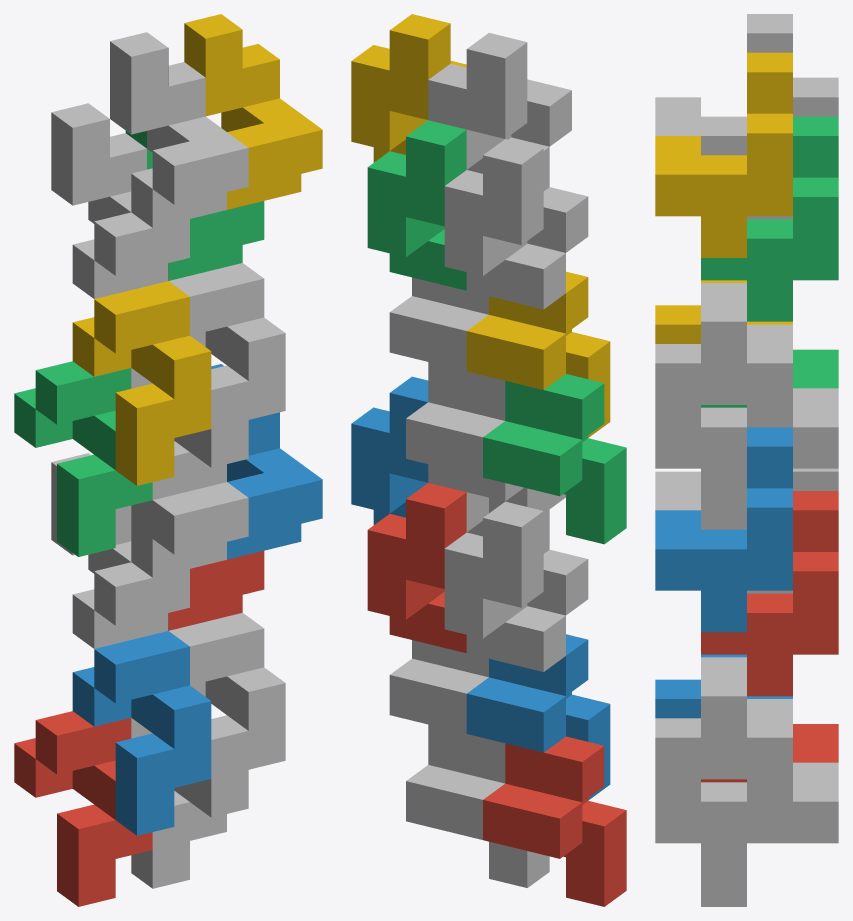
The model's file is tiling.obj.
The picture shows the model from 3 angles, left to right: view 1: azimuth 30°, elevation 25°; view 2: azimuth 150°, elevation 25°; view 3: azimuth 270°, elevation 25°; orthographic projection. The views are drawn at different scales.
Parts seen in each view (by area): view 1: copy_1_domain_2, copy_1_domain_4, copy_2_domain_4, copy_2_domain_3, copy_1_domain_1, copy_1_domain_3, copy_1_domain_6, copy_1_domain_8, copy_2_domain_8, copy_2_domain_1, copy_2_domain_6, copy_2_domain_2 (+4 smaller); view 2: copy_2_domain_3, copy_2_domain_1, copy_1_domain_1, copy_1_domain_3, copy_2_domain_4, copy_2_domain_5, copy_2_domain_7, copy_1_domain_2, copy_1_domain_4, copy_1_domain_5, copy_2_domain_8, copy_1_domain_7 (+4 smaller); view 3: copy_2_domain_6, copy_2_domain_8, copy_1_domain_6, copy_1_domain_8, copy_2_domain_5, copy_2_domain_7, copy_1_domain_5, copy_1_domain_7, copy_2_domain_4, copy_2_domain_2, copy_1_domain_2, copy_1_domain_4 (+4 smaller).
Boxes of the visible parts, x1=… form: copy_1_domain_2: x1=72, y1=631, x2=211, y2=835; copy_1_domain_4: x1=72, y1=281, x2=211, y2=485; copy_2_domain_4: x1=110, y1=32, x2=248, y2=227; copy_2_domain_3: x1=51, y1=103, x2=189, y2=298; copy_1_domain_1: x1=14, y1=711, x2=152, y2=906; copy_1_domain_3: x1=14, y1=361, x2=152, y2=556; copy_1_domain_6: x1=169, y1=612, x2=285, y2=817; copy_1_domain_8: x1=169, y1=263, x2=285, y2=467; copy_2_domain_8: x1=184, y1=14, x2=322, y2=209; copy_2_domain_1: x1=51, y1=453, x2=189, y2=648; copy_2_domain_6: x1=211, y1=364, x2=322, y2=559; copy_2_domain_2: x1=131, y1=482, x2=248, y2=577; copy_2_domain_3: x1=444, y1=139, x2=588, y2=309; copy_2_domain_1: x1=444, y1=501, x2=588, y2=671; copy_1_domain_1: x1=483, y1=736, x2=626, y2=906; copy_1_domain_3: x1=483, y1=374, x2=626, y2=544; copy_2_domain_4: x1=428, y1=33, x2=571, y2=190; copy_2_domain_5: x1=367, y1=483, x2=466, y2=653; copy_2_domain_7: x1=367, y1=120, x2=466, y2=290; copy_1_domain_2: x1=466, y1=634, x2=610, y2=800; copy_1_domain_4: x1=466, y1=271, x2=610, y2=437; copy_1_domain_5: x1=406, y1=724, x2=549, y2=887; copy_2_domain_8: x1=351, y1=14, x2=466, y2=162; copy_1_domain_7: x1=406, y1=362, x2=549, y2=513; copy_2_domain_6: x1=655, y1=427, x2=792, y2=632; copy_2_domain_8: x1=655, y1=52, x2=792, y2=257; copy_1_domain_6: x1=655, y1=657, x2=792, y2=843; copy_1_domain_8: x1=655, y1=283, x2=792, y2=468; copy_2_domain_5: x1=701, y1=491, x2=838, y2=696; copy_2_domain_7: x1=701, y1=116, x2=838, y2=321; copy_1_domain_5: x1=701, y1=762, x2=838, y2=906; copy_1_domain_7: x1=701, y1=388, x2=838, y2=510; copy_2_domain_4: x1=655, y1=14, x2=792, y2=155; copy_2_domain_2: x1=655, y1=471, x2=746, y2=529; copy_1_domain_2: x1=655, y1=654, x2=792, y2=718; copy_1_domain_4: x1=655, y1=280, x2=792, y2=343.
Bounding box in the file's own units: 6 × 21 × 4.
